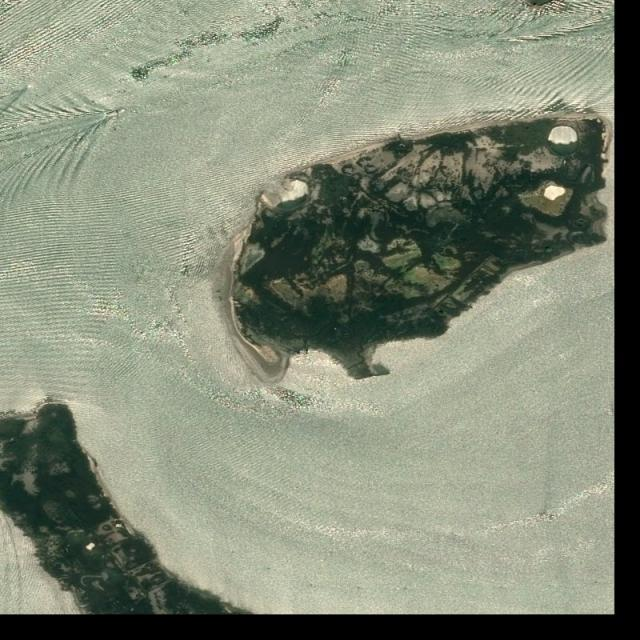ship: (104, 109, 126, 119), (27, 84, 33, 90)
